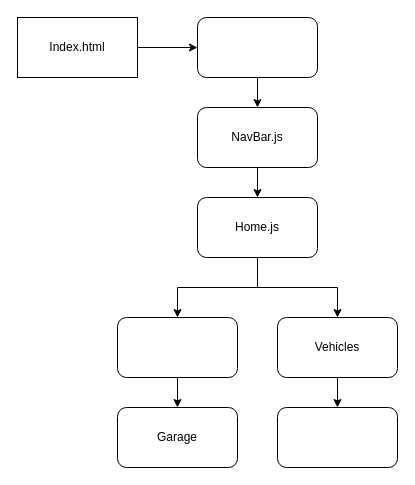
Image size: 415x485. Some labels were removed from this diagram. Here are the shapes that lost their labels. From the top down, the centre of each, then its label:
the point at 257,47: App.js
the point at 177,347: Garages
the point at 337,437: Vehicle
